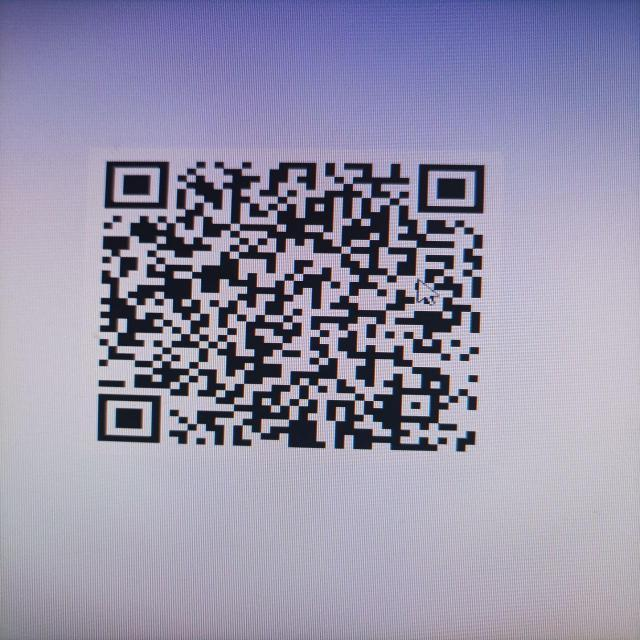qr_code: (97, 161, 486, 456)
